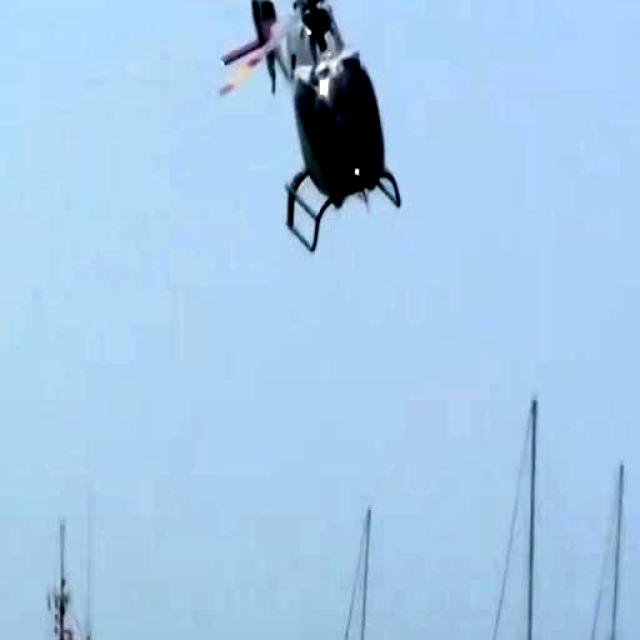drone: (198, 0, 418, 270)
